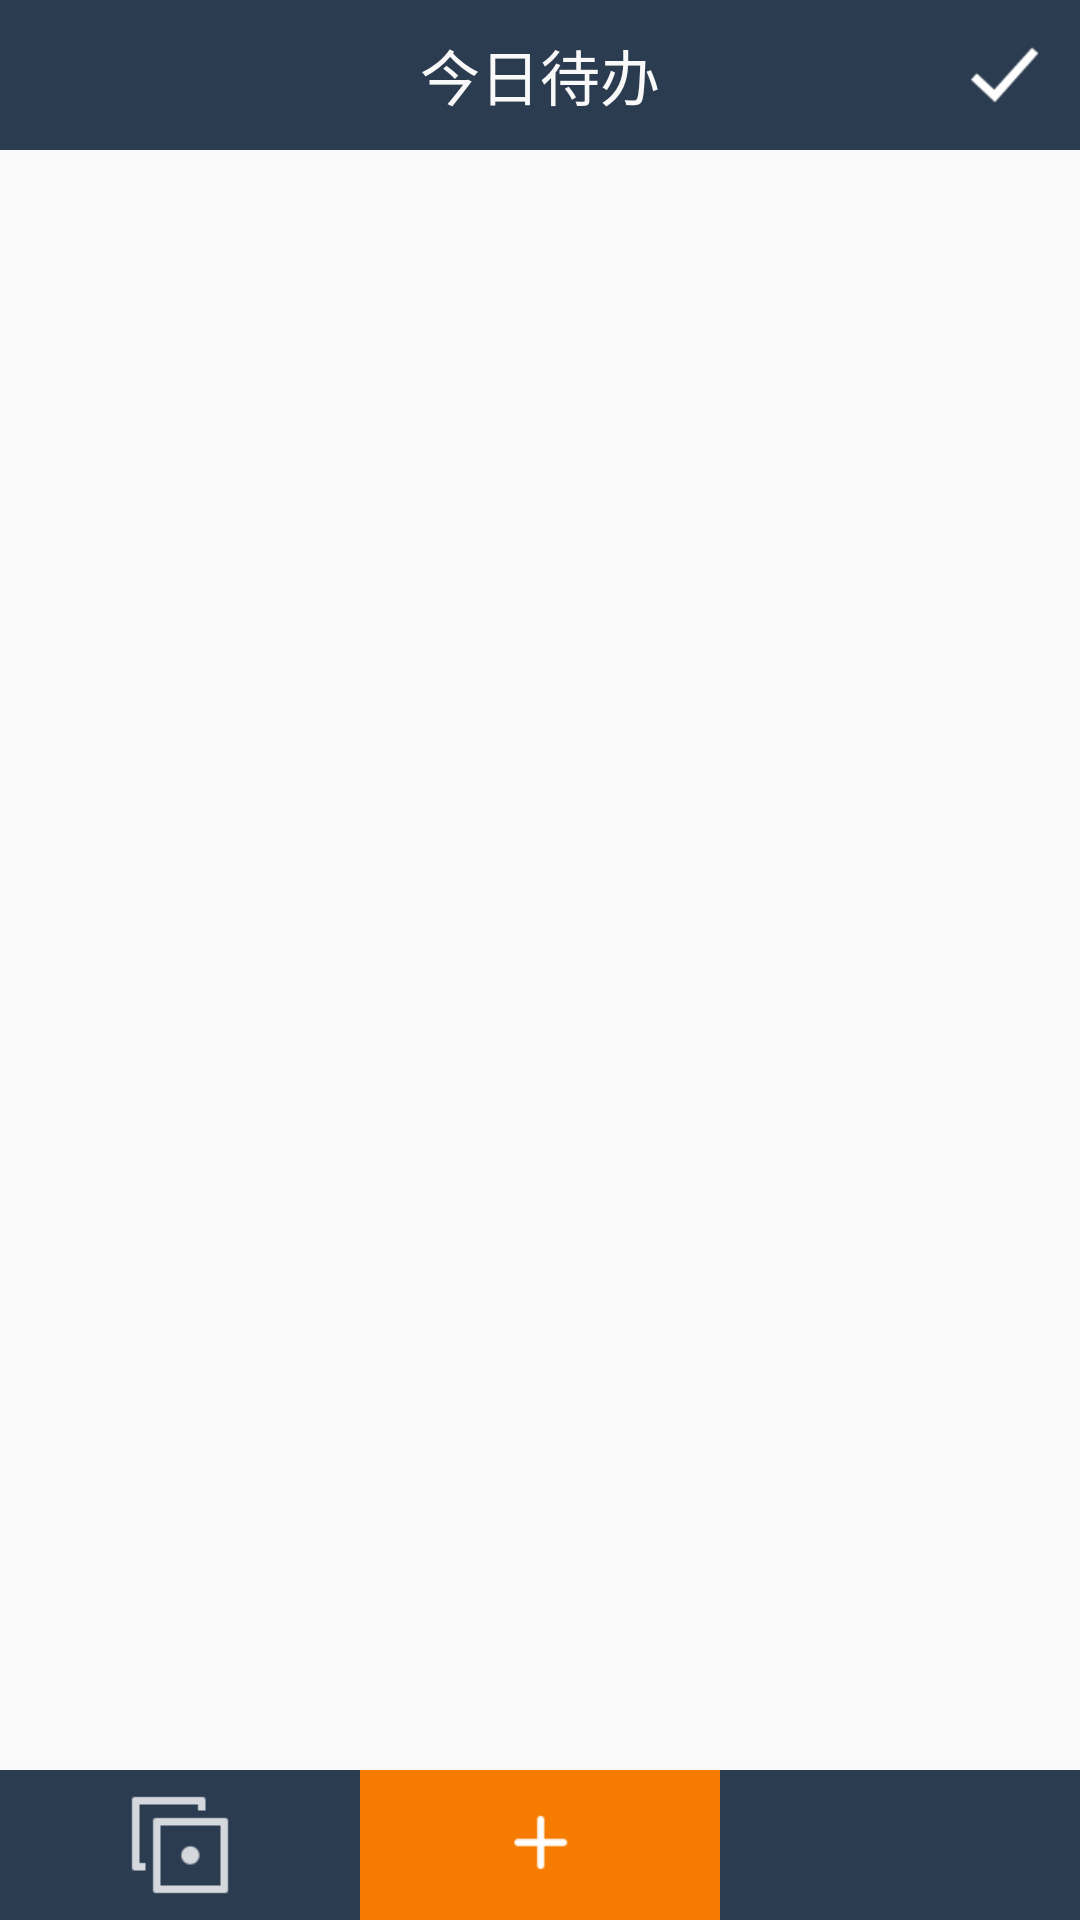

Icon click points for this 1080x1920 phone screenshot, format [x,y]:
add: [540,1845]
titlebar tick: [1005,75]
